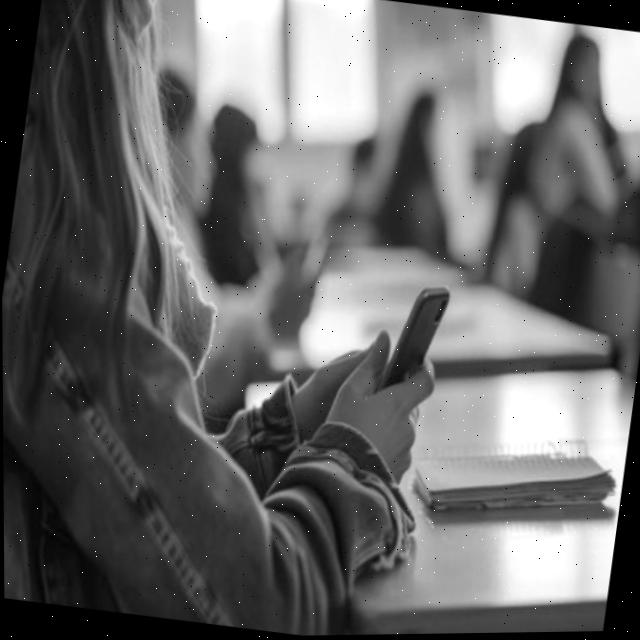phone: (356, 275, 468, 407)
